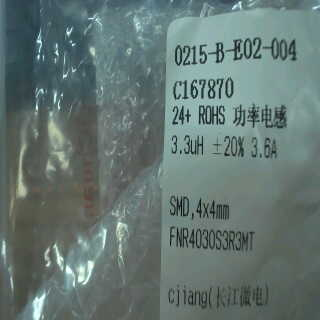3.3uH: (168, 133, 206, 164)
